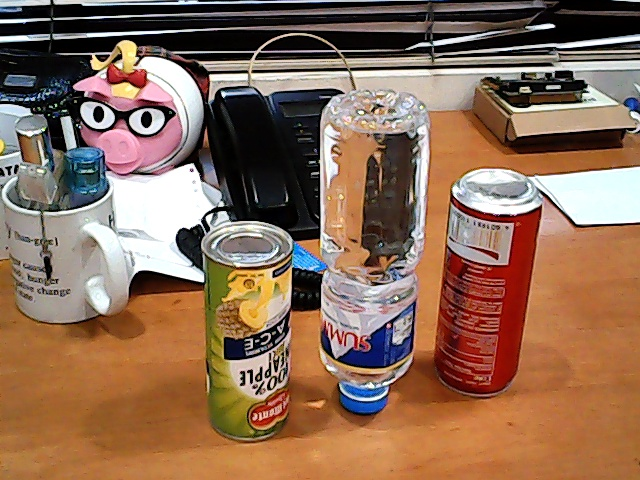Cola: (424, 162, 567, 402)
Pine Juice: (188, 207, 304, 453)
Summit Water: (311, 74, 435, 430)
